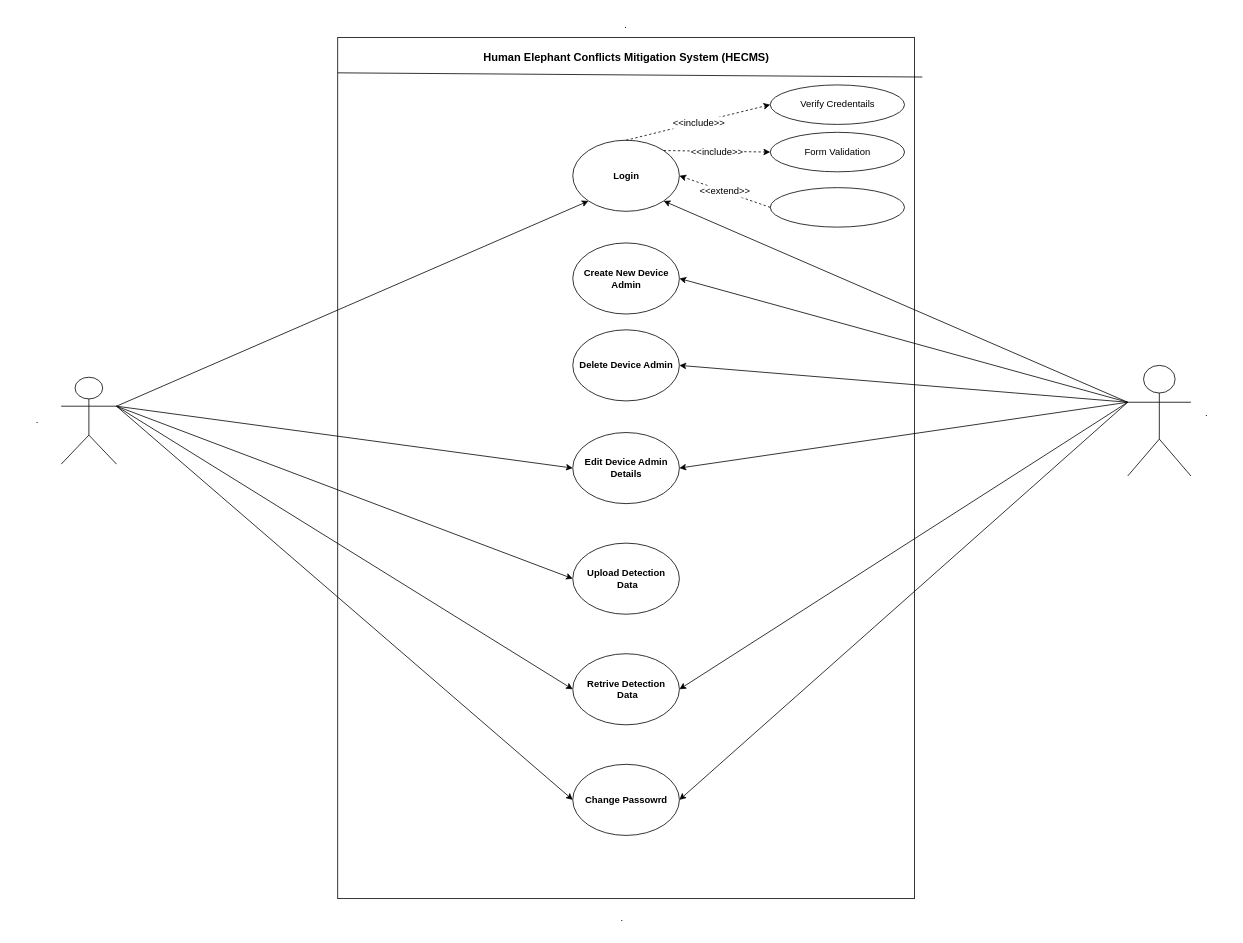
Image size: 1243x943. Some labels were removed from this diagram. Here are the shapes that lost their labels. From the top down, the centre of each, then its label:
the point at 837,207: Display Error Message
the point at 88,420: Device Admin
the point at 1159,420: Super Admin
